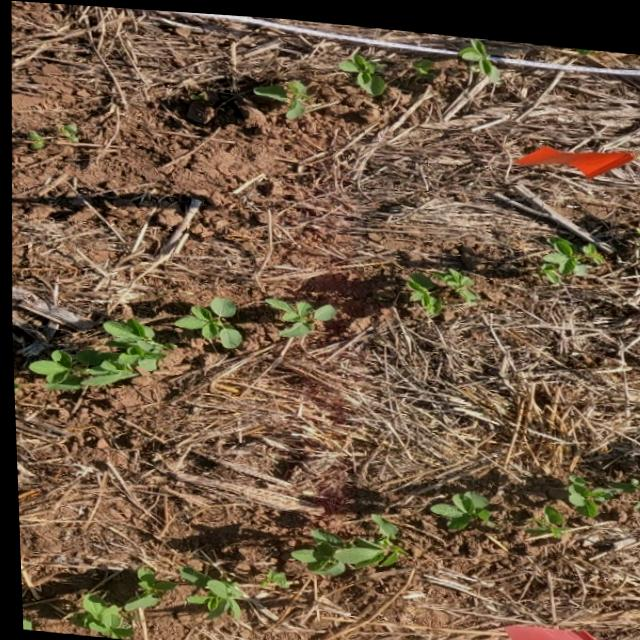soy_plant: (26, 316, 169, 387), (66, 565, 172, 637), (287, 509, 401, 570), (172, 294, 240, 345), (174, 563, 240, 613), (405, 261, 475, 308), (564, 466, 640, 508), (539, 228, 603, 275), (264, 294, 333, 333), (427, 484, 488, 522), (253, 76, 310, 114), (338, 49, 384, 90), (459, 30, 499, 73), (26, 122, 78, 148), (528, 496, 563, 528), (257, 564, 283, 583), (18, 618, 28, 630)
